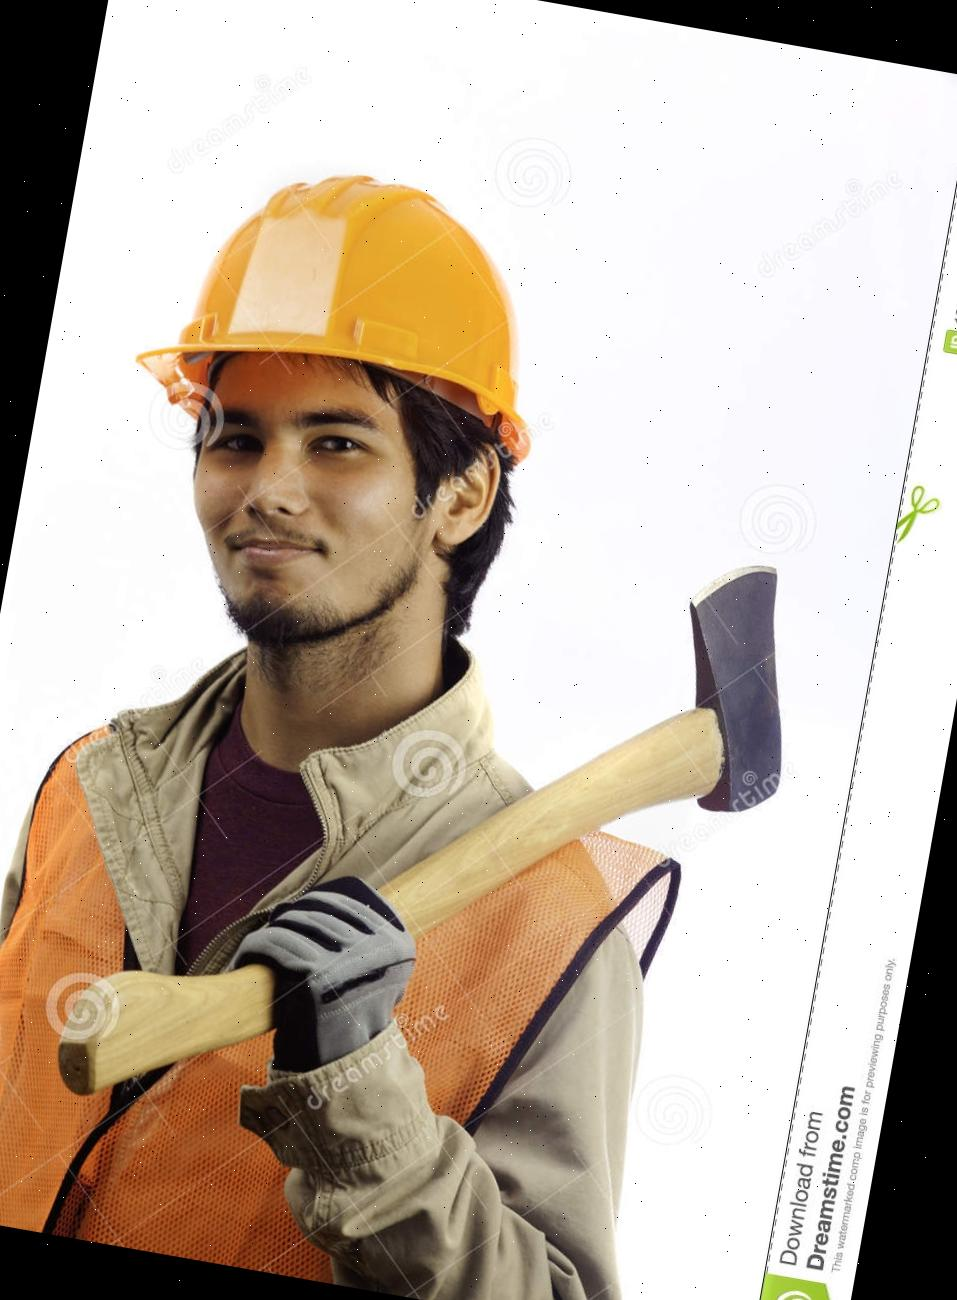helmet: (118, 132, 566, 455)
wear: (0, 672, 722, 1300)
